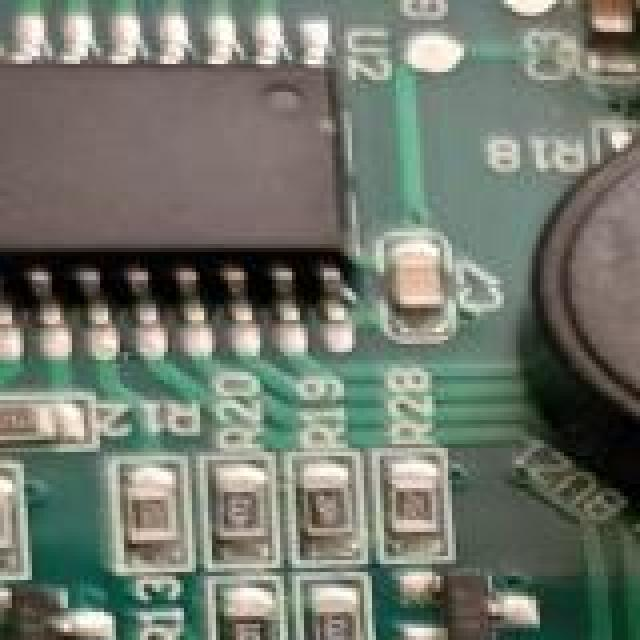IC: (0, 24, 370, 328)
buzzer: (520, 104, 640, 460)
capacitor: (392, 240, 444, 320), (564, 0, 640, 44)
resistor: (292, 468, 364, 544), (384, 464, 436, 546), (132, 476, 184, 556), (212, 476, 262, 548), (304, 592, 372, 640), (0, 408, 70, 446), (220, 592, 272, 640)
transistor: (412, 572, 516, 640), (0, 584, 104, 640)
